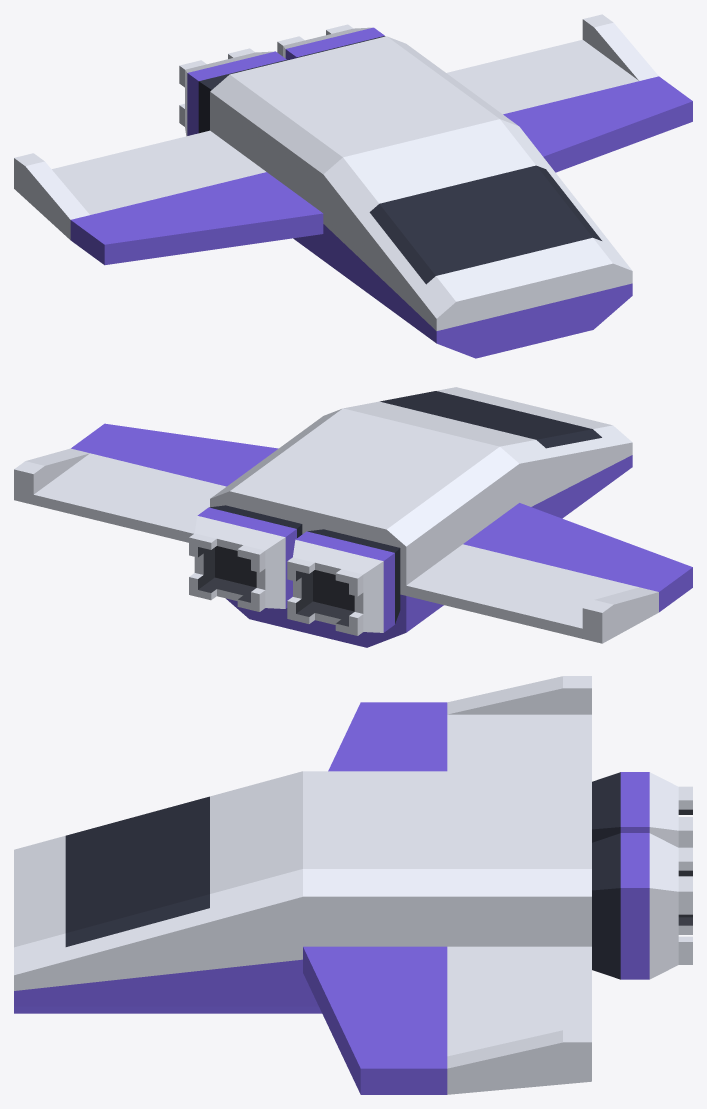
The model's file is spaceship.fbx.
The picture shows the model from 3 angles, top to bottom: view 1: azimuth 30°, elevation 25°; view 2: azimuth 150°, elevation 25°; view 3: azimuth 270°, elevation 25°; orthographic projection. The views are drawn at different scales.
Visible parts, largest first — view 1: mergedBlocks; view 2: mergedBlocks; view 3: mergedBlocks.
Part boxes in pixels (x1=…): mergedBlocks: x1=14, y1=14, x2=692, y2=358; mergedBlocks: x1=14, y1=387, x2=692, y2=647; mergedBlocks: x1=14, y1=676, x2=692, y2=1094.
Size of the model in its own units: 30 by 6 by 23.5.
Materials: 1 (1 with a texture image).
